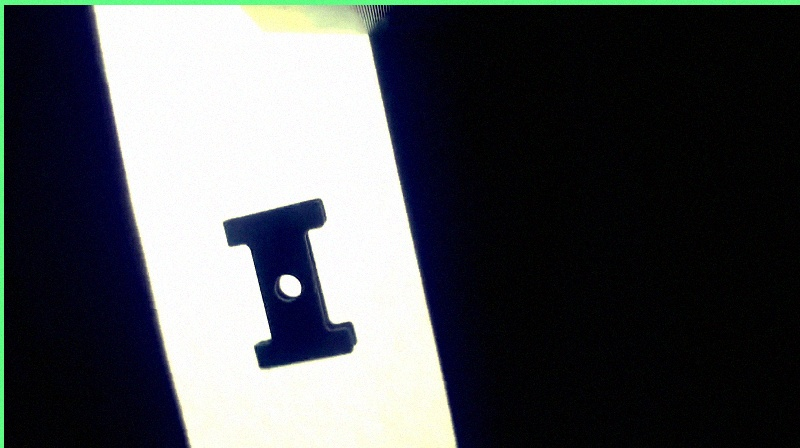O002: (217, 193, 358, 370)
